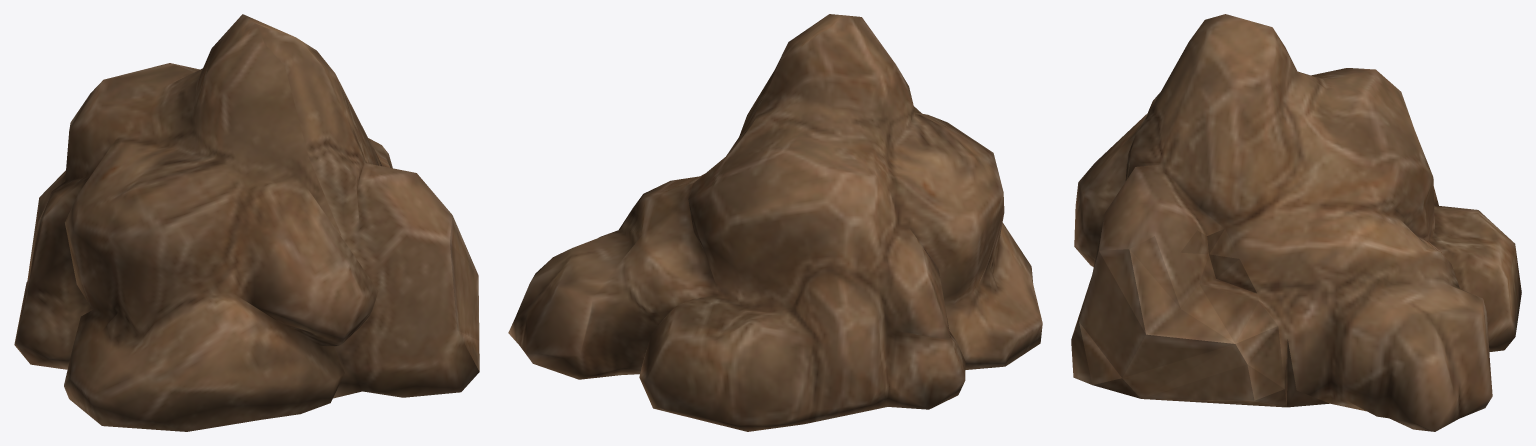
The model's file is modelRock01.fbx.
3 renders of one model, left to right at view 1: azimuth 30°, elevation 25°; view 2: azimuth 150°, elevation 25°; view 3: azimuth 270°, elevation 25°, orthographic. The views are drawn at different scales.
Parts seen in each view (by area): view 1: modelRock01; view 2: modelRock01; view 3: modelRock01.
Boxes of the visible parts, x1,y1,x2,y2 form: modelRock01: (14, 14, 479, 431); modelRock01: (508, 14, 1042, 431); modelRock01: (1071, 14, 1521, 431).
Bounding box in the file's own units: 23.93 × 17.06 × 22.53.
